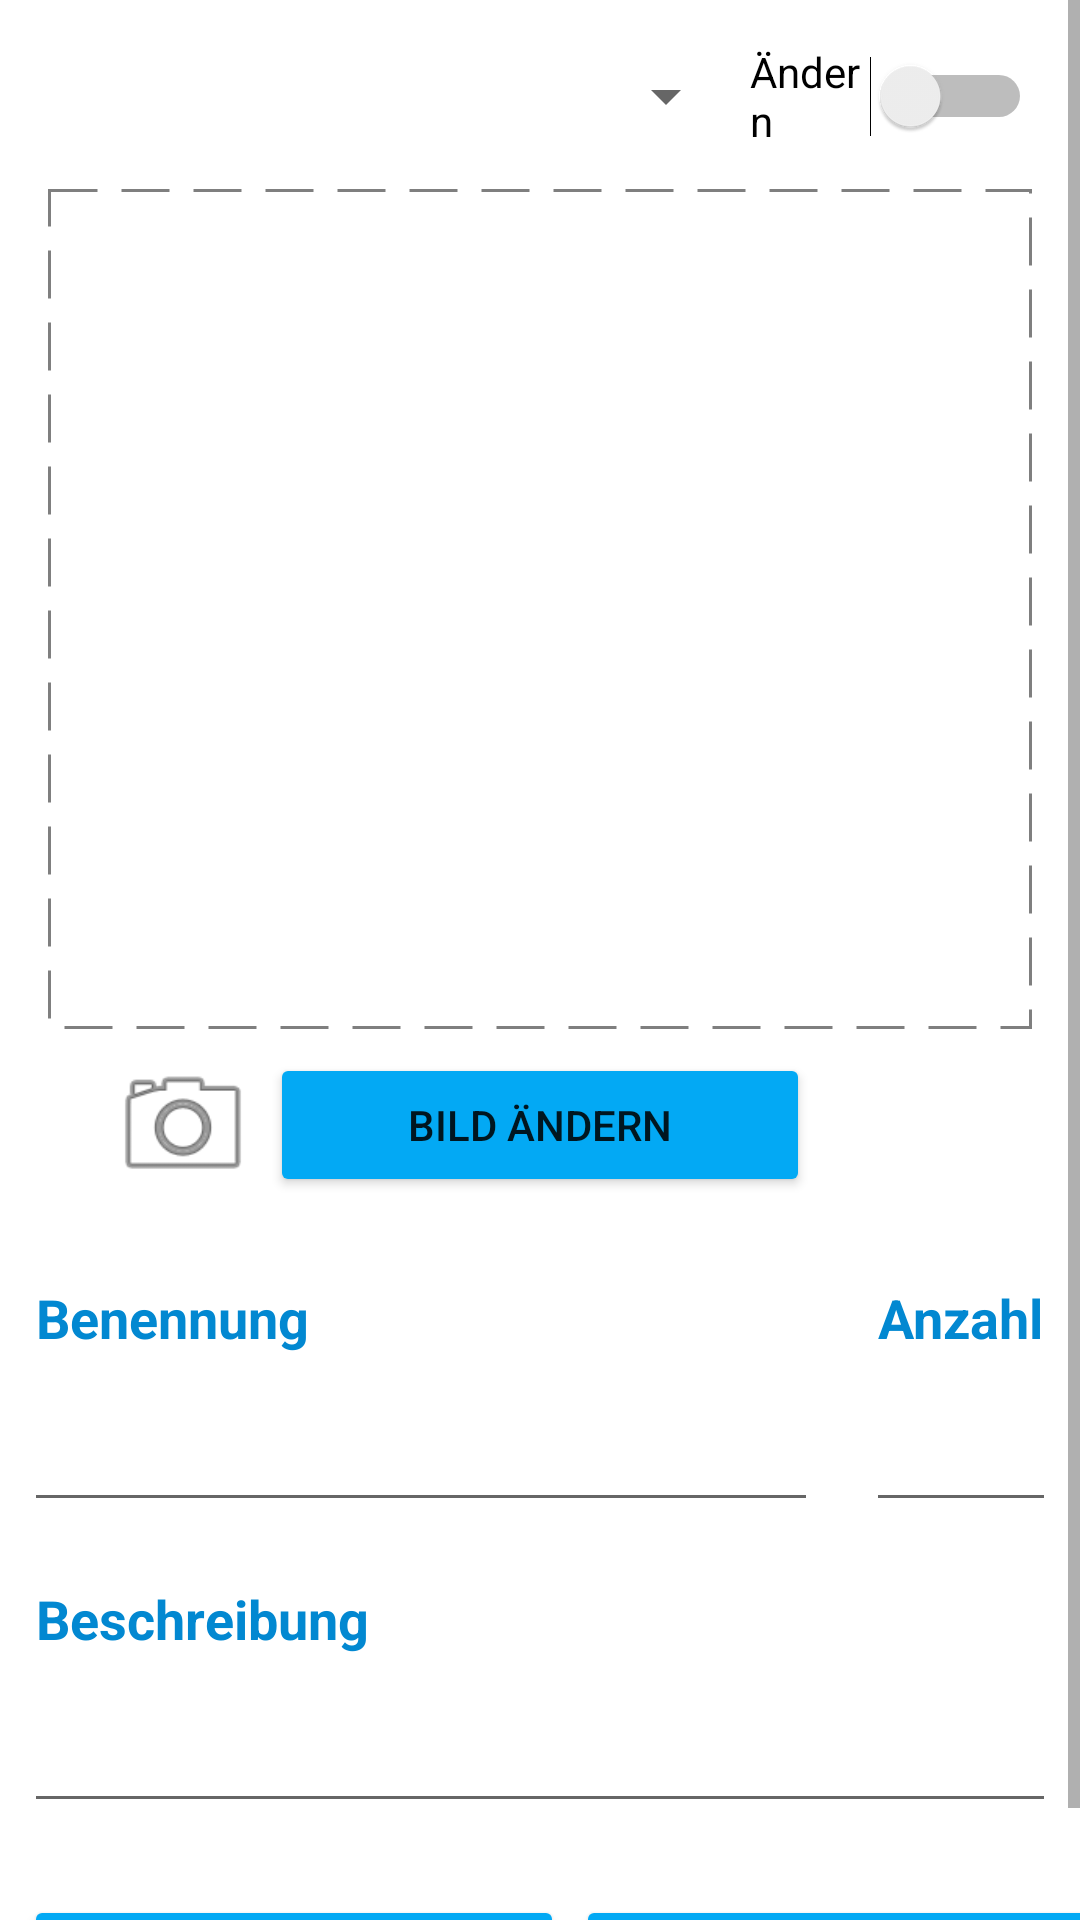

Where to tap for icons on this 1080 x 1920 app screen, as (x,y):
camera: (183,1122)
